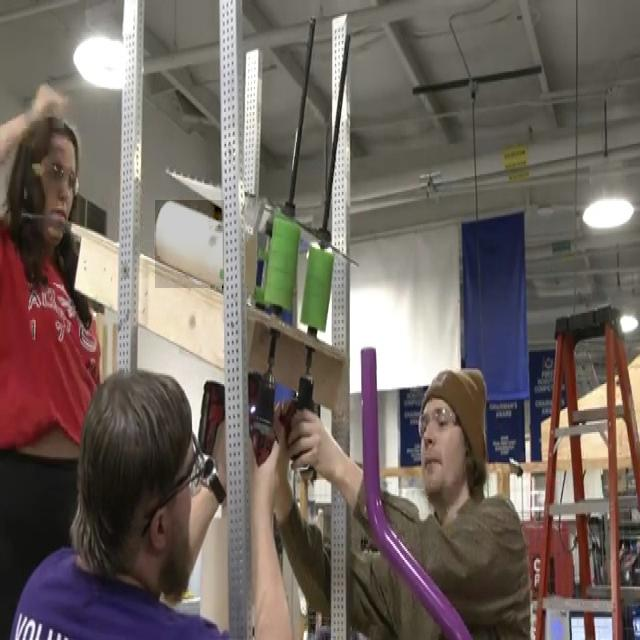Coral: (155, 200, 224, 288)
